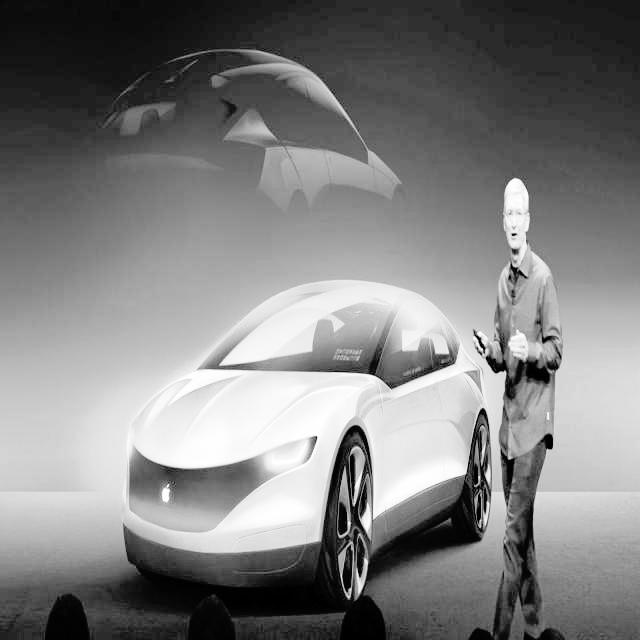Car: (113, 269, 493, 614)
